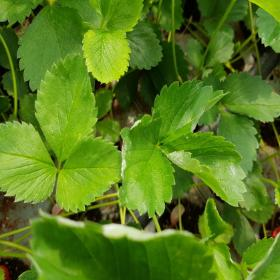Powdery Mildew Leaf: (157, 130, 247, 208), (117, 107, 176, 219), (151, 76, 230, 145)
